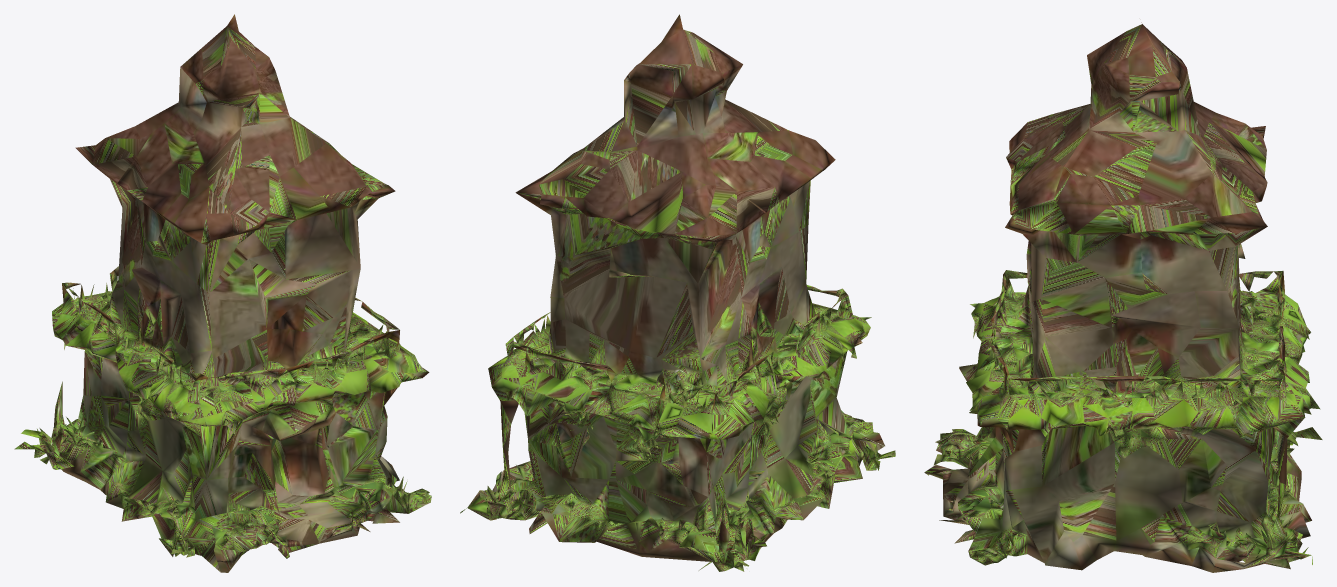
Rendered from bq_tower_house.far.glb.
3 views of the same model, side by side, from view 1: azimuth 30°, elevation 25°; view 2: azimuth 150°, elevation 25°; view 3: azimuth 270°, elevation 25° (orthographic). The views are drawn at different scales.
Bounding box in the file's own units: 1.13 × 1.76 × 1.3.
1 material, 1 textured.
